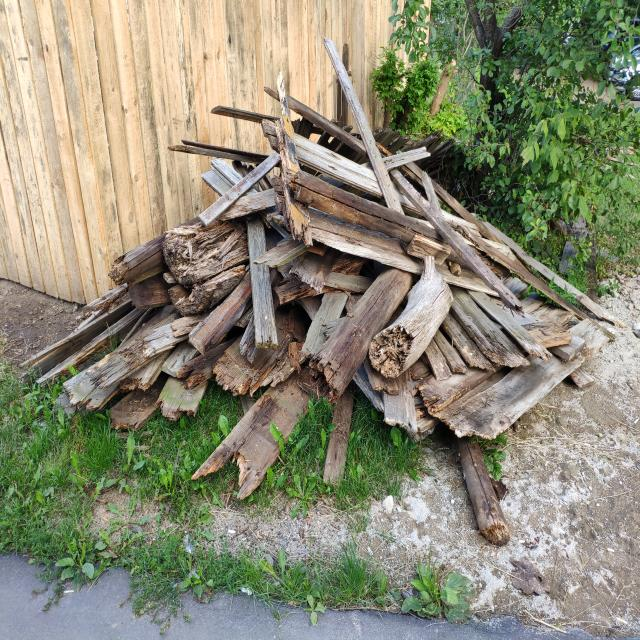entulho: (50, 211, 270, 435), (415, 284, 598, 444), (384, 149, 536, 307), (299, 259, 446, 410), (326, 41, 406, 234), (199, 380, 322, 487), (294, 164, 439, 248), (198, 154, 280, 232), (272, 78, 307, 255), (459, 442, 515, 541), (242, 213, 275, 366), (325, 382, 369, 486)
